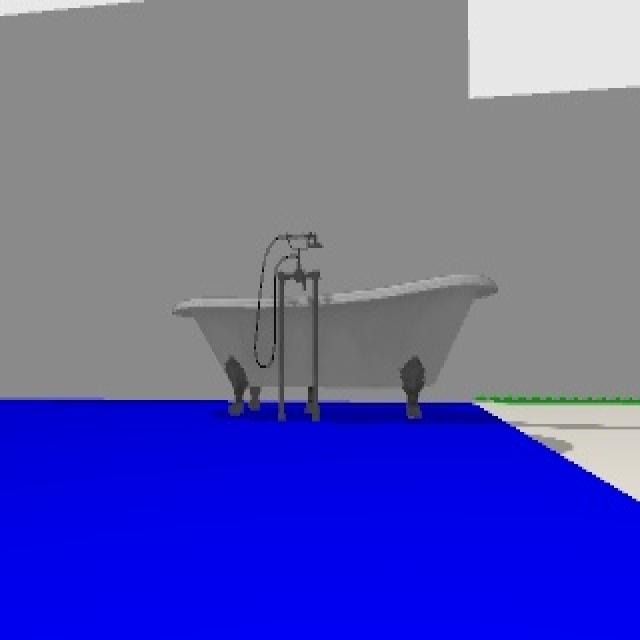bathtub: (172, 232, 500, 421)
